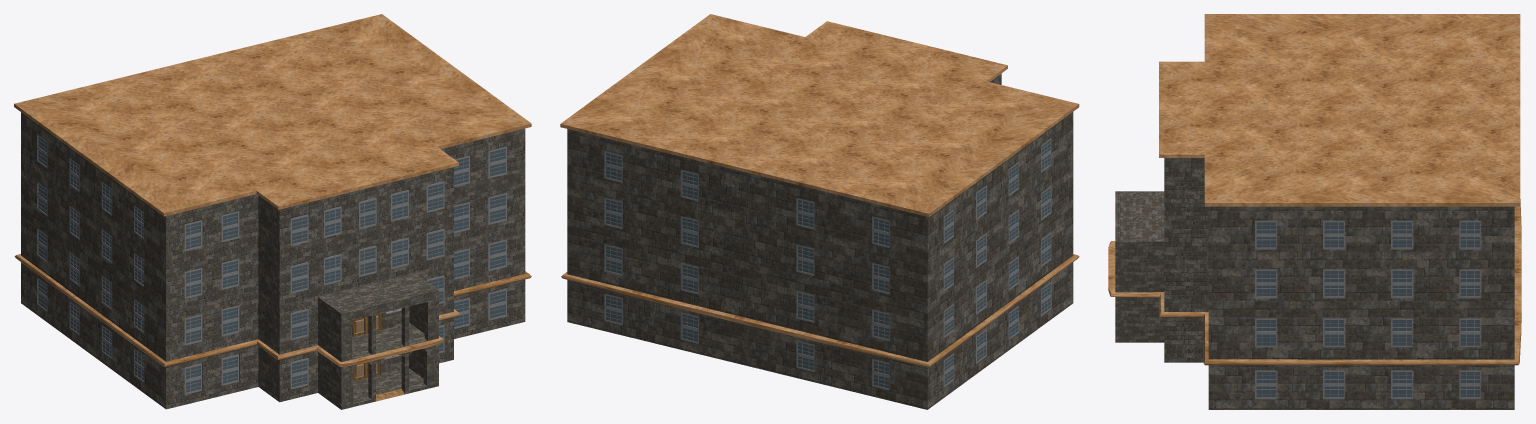
File: mansion.fbx
3 renders of one model, left to right at view 1: azimuth 30°, elevation 25°; view 2: azimuth 150°, elevation 25°; view 3: azimuth 270°, elevation 25°, orthographic. The views are drawn at different scales.
Visible parts, largest first — view 1: MansionHouse, MansionWindows; view 2: MansionHouse, MansionWindows; view 3: MansionHouse, MansionWindows.
Boxes of the visible parts, box(x1,y1,x2,y2) form: MansionHouse: box(14, 14, 531, 409); MansionWindows: box(37, 134, 506, 394); MansionHouse: box(560, 14, 1079, 409); MansionWindows: box(604, 138, 1051, 390); MansionHouse: box(1108, 14, 1521, 409); MansionWindows: box(1255, 220, 1481, 399).
Bounding box in the file's own units: 3072 × 1584 × 2838.
